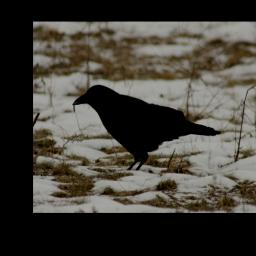Crow: (69, 80, 220, 173)
